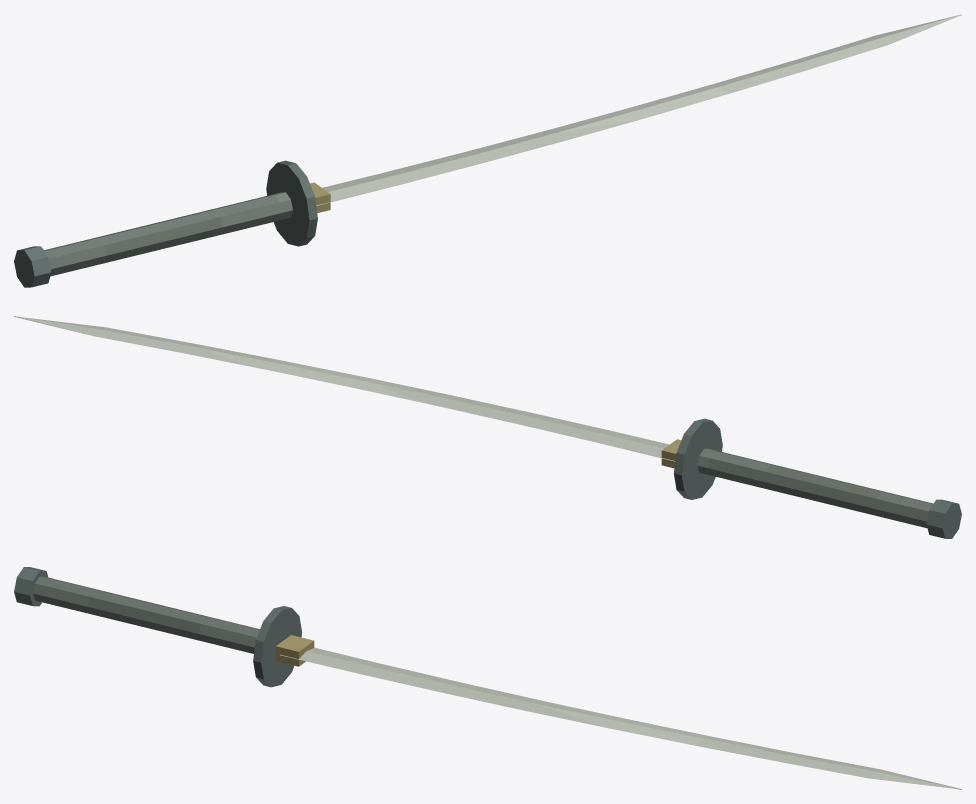
File: weapon-katana.glb
3 renders of one model, top to bottom at view 1: azimuth 30°, elevation 25°; view 2: azimuth 150°, elevation 25°; view 3: azimuth 330°, elevation 25°, orthographic. The views are drawn at different scales.
Visible parts, largest first — view 1: weapon-katana/faceted-distinct-blade, weapon-katana/eight-sided-handle, weapon-katana/round-tsuba, weapon-katana/handle-end-pommel; view 2: weapon-katana/faceted-distinct-blade, weapon-katana/eight-sided-handle, weapon-katana/round-tsuba, weapon-katana/handle-end-pommel; view 3: weapon-katana/faceted-distinct-blade, weapon-katana/eight-sided-handle, weapon-katana/round-tsuba, weapon-katana/short-blade-collar, weapon-katana/handle-end-pommel.
Part boxes in pixels (bbox=[...]): weapon-katana/faceted-distinct-blade: bbox=[316, 14, 961, 205]; weapon-katana/eight-sided-handle: bbox=[44, 192, 292, 276]; weapon-katana/round-tsuba: bbox=[266, 160, 317, 246]; weapon-katana/handle-end-pommel: bbox=[14, 246, 51, 287]; weapon-katana/faceted-distinct-blade: bbox=[14, 316, 675, 461]; weapon-katana/eight-sided-handle: bbox=[697, 448, 933, 528]; weapon-katana/round-tsuba: bbox=[673, 418, 722, 499]; weapon-katana/handle-end-pommel: bbox=[926, 499, 961, 538]; weapon-katana/faceted-distinct-blade: bbox=[280, 647, 961, 789]; weapon-katana/eight-sided-handle: bbox=[33, 576, 259, 653]; weapon-katana/round-tsuba: bbox=[253, 606, 302, 687]; weapon-katana/short-blade-collar: bbox=[275, 635, 314, 666]; weapon-katana/handle-end-pommel: bbox=[14, 567, 47, 606].
Size of the model in its own units: 1.03 by 0.08 by 0.0887.
Materials: 4 (4 with a texture image).
